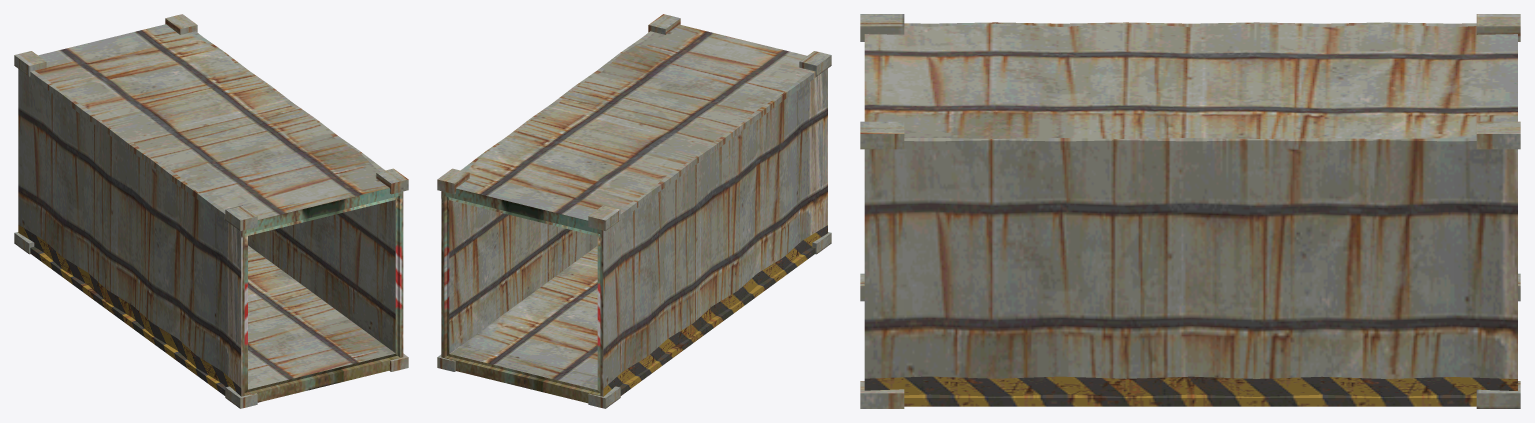
The model's file is ContainerOpen3_SM.fbx.
The picture shows the model from 3 angles, left to right: view 1: azimuth 30°, elevation 25°; view 2: azimuth 150°, elevation 25°; view 3: azimuth 270°, elevation 25°; orthographic projection. The views are drawn at different scales.
Parts seen in each view (by area): view 1: Box013; view 2: Box013; view 3: Box013.
Boxes of the visible parts, left/top/right/bottom form: Box013: left=14, top=14, right=408, bottom=408; Box013: left=437, top=14, right=831, bottom=408; Box013: left=860, top=14, right=1520, bottom=408.
Bounding box in the file's own units: 238 × 255 × 554.
